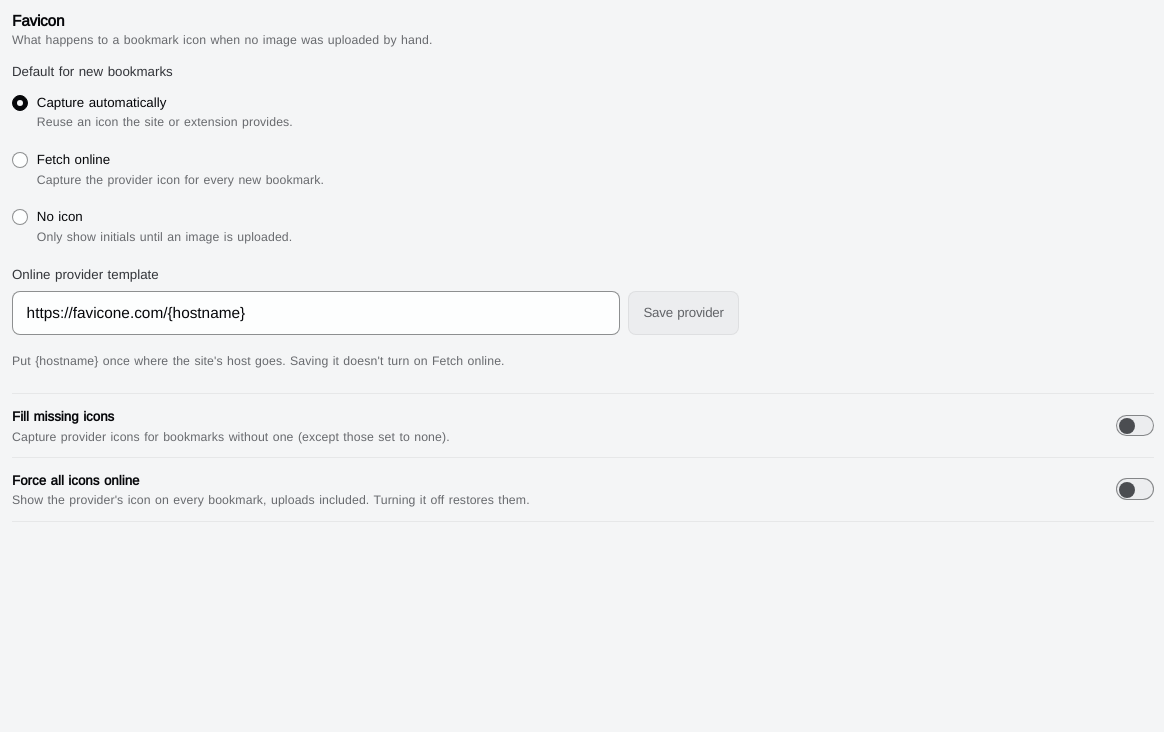
Test: Settings FaviconSection › loads the policy first, then PATCHes the new default with the server ETag and refreshes
The width and height of the screenshot is (1164, 732).
Expected: the 1st radio button is checked, [12,95,28,111]
Click the radio button labelled "No icon Only show initials until an image is uploaded." at (20,217), box [12,209,28,225]
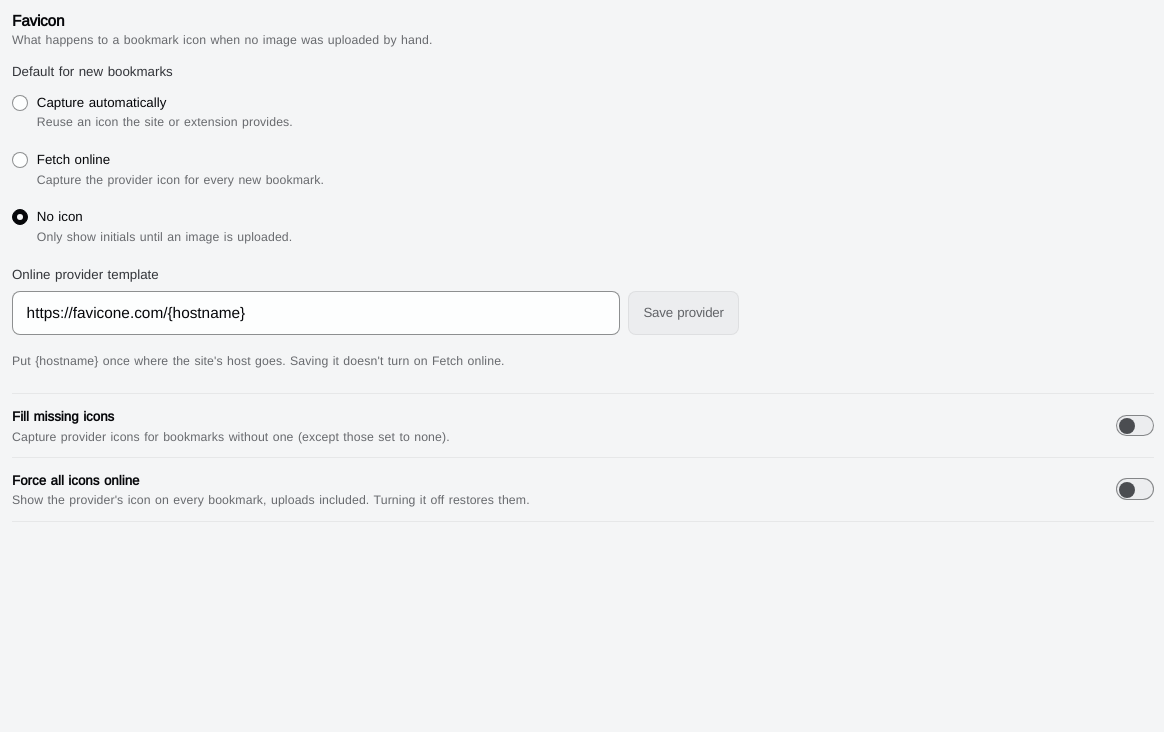
Result: the radio button labelled "No icon Only show initials until an image is uploaded." is checked at [12,209,28,225]
Result: the 1st radio button is not checked at [12,95,28,111]
